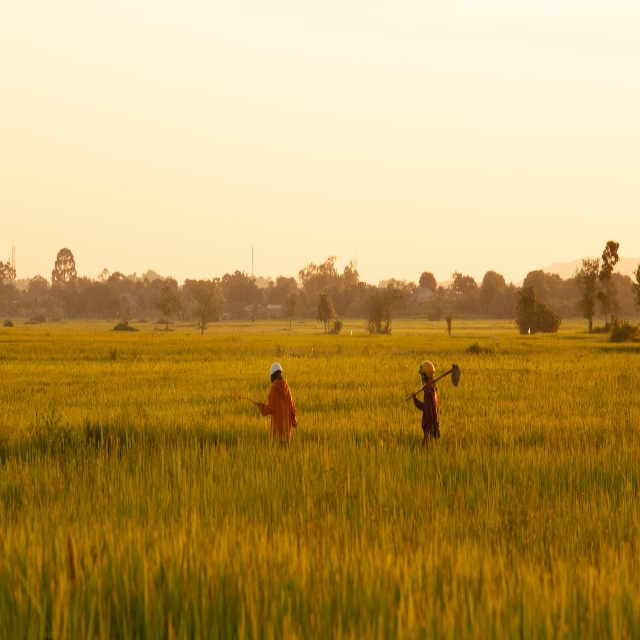Sin_guantes: (411, 390, 417, 401), (255, 401, 260, 407)
